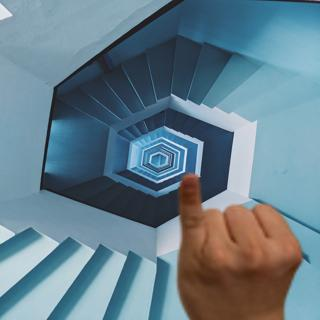FINE: (173, 169, 306, 320)
